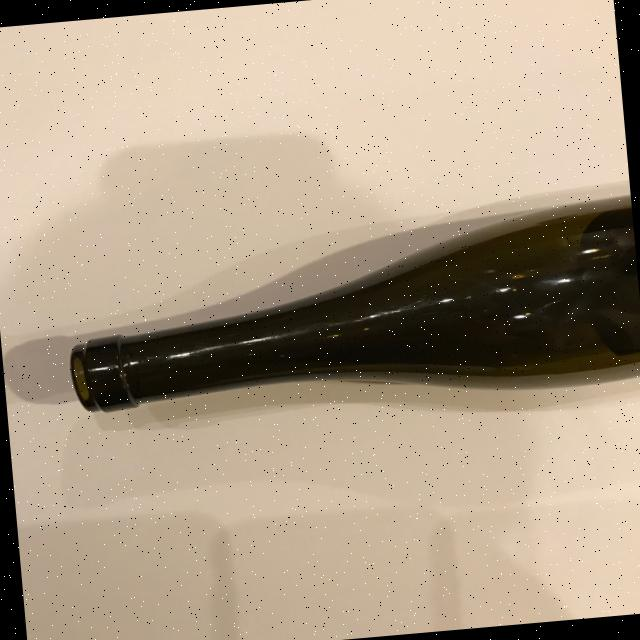glass: (57, 187, 640, 418)
